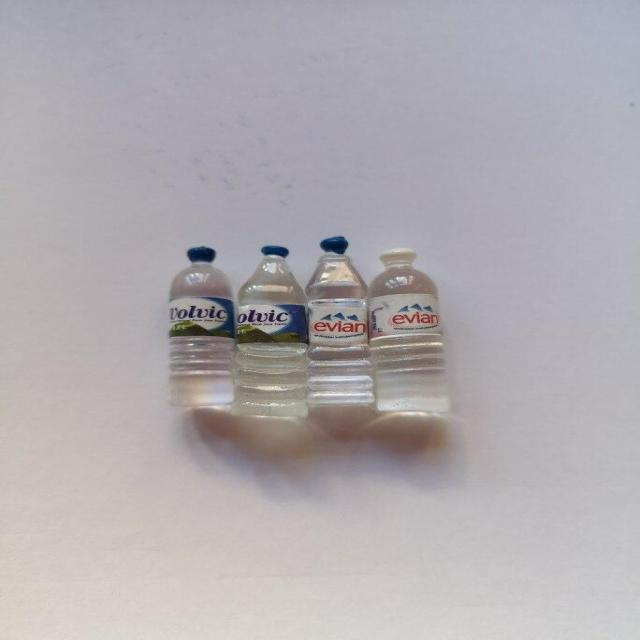bottle: (228, 241, 317, 427), (366, 246, 459, 418), (296, 233, 377, 411), (160, 243, 241, 414)
